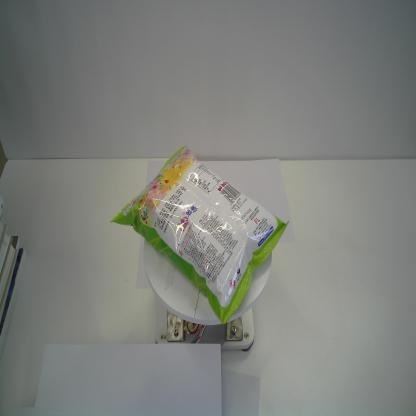Puffed Food: (110, 144, 290, 328)
